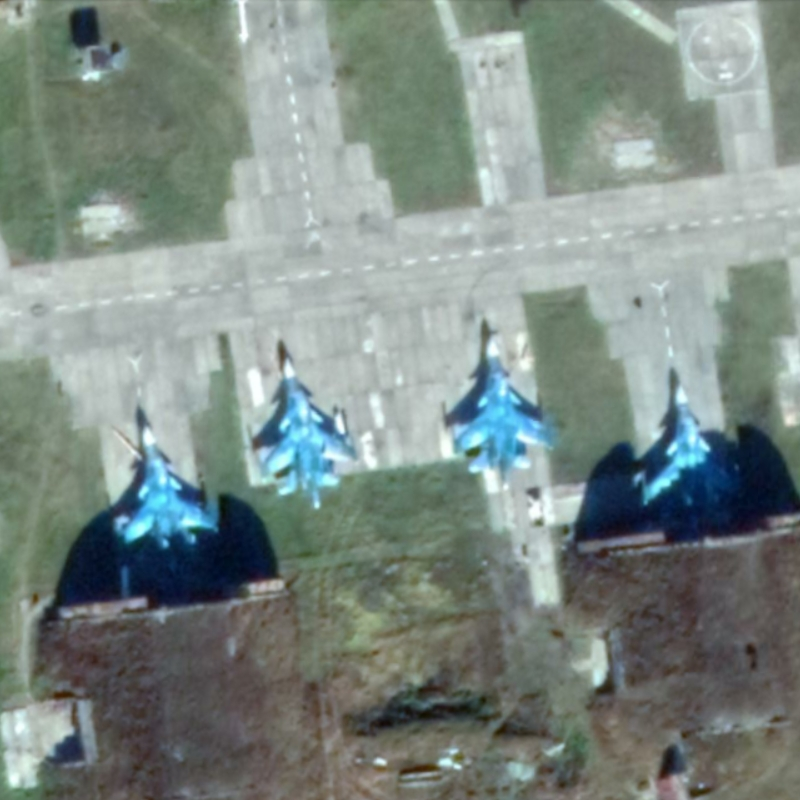A19: (449, 334, 558, 495), (109, 421, 224, 573), (257, 353, 361, 514), (637, 381, 745, 535)
